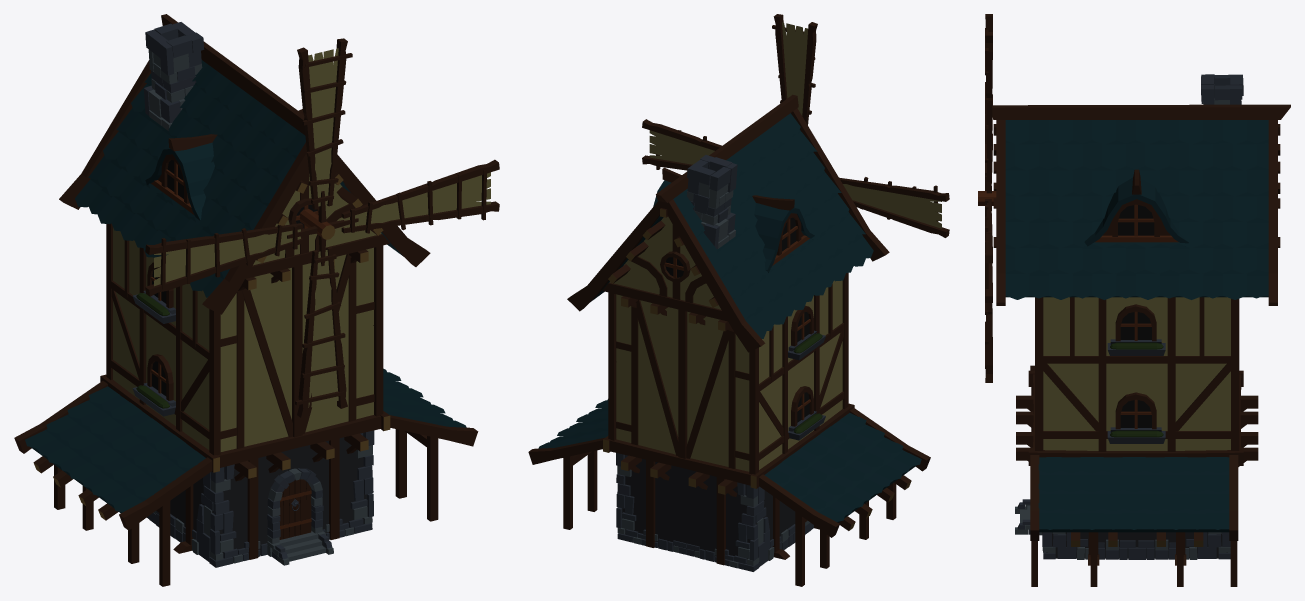
The model's file is mill.obj.
3 renders of one model, left to right at view 1: azimuth 30°, elevation 25°; view 2: azimuth 150°, elevation 25°; view 3: azimuth 270°, elevation 25°, orthographic. The views are drawn at different scales.
Visible parts, largest first — view 1: Mill_Cube.128, Mill_Blades_Cube.007; view 2: Mill_Cube.128, Mill_Blades_Cube.007; view 3: Mill_Cube.128, Mill_Blades_Cube.007.
Part boxes in pixels (x1,y1,x2,y2): Mill_Cube.128: (14,14,478,586); Mill_Blades_Cube.007: (145,38,499,417); Mill_Cube.128: (528,94,930,586); Mill_Blades_Cube.007: (642,14,949,237); Mill_Cube.128: (992,74,1290,586); Mill_Blades_Cube.007: (978,14,996,382).
Bounding box in the file's own units: 10.19 × 14.41 × 8.19.
